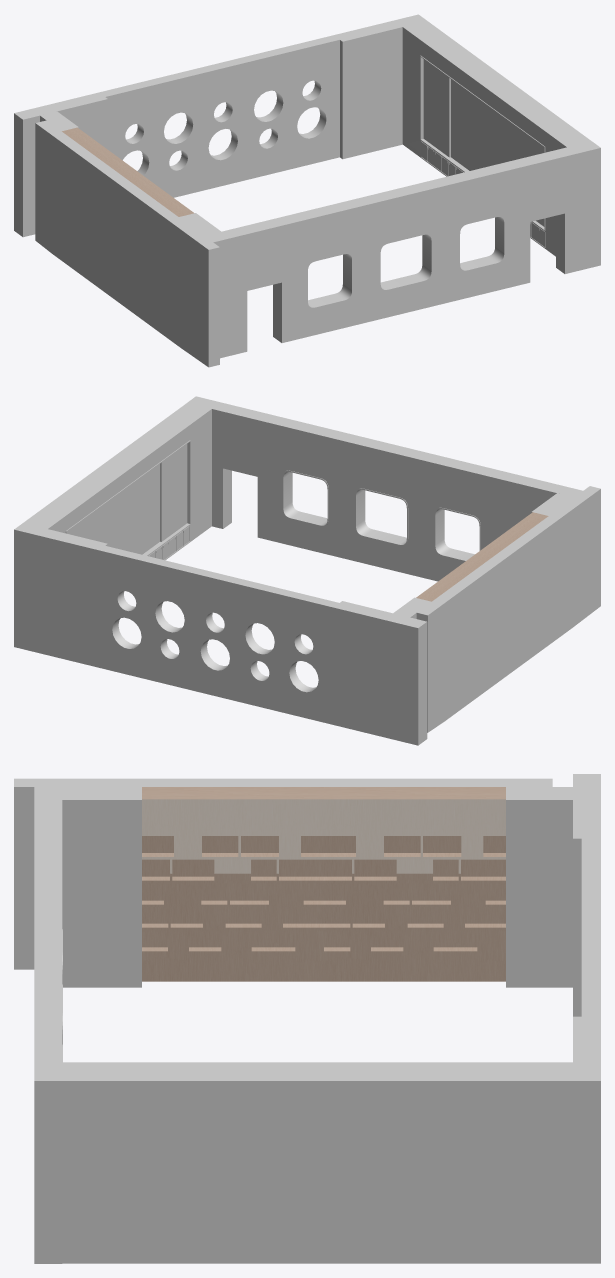
The picture shows the model from 3 angles, top to bottom: view 1: azimuth 30°, elevation 25°; view 2: azimuth 150°, elevation 25°; view 3: azimuth 270°, elevation 25°; orthographic projection. The views are drawn at different scales.
Visible parts, largest first — view 1: Box173, Box152, Box011, Box151, Box158, Box174, screen, window, Object005, Box015, Box175, Box169; view 2: Box173, Box152, Box011, Box174, Box158, Box151, screen, window, Object005, Box175, Box015, Box169; view 3: Box151, Box015, Box175, Box016, Box173, Box168, Box011, Box158, Box152, Box174.
Boxes of the visible parts, bbox=[...] form: Box173: bbox=[204, 141, 600, 358]; Box152: bbox=[99, 35, 339, 197]; Box011: bbox=[35, 120, 219, 367]; Box151: bbox=[402, 21, 591, 256]; Box158: bbox=[334, 14, 426, 159]; Box174: bbox=[14, 92, 107, 237]; screen: bbox=[451, 79, 521, 170]; window: bbox=[307, 215, 505, 308]; Object005: bbox=[423, 59, 544, 226]; Box015: bbox=[120, 170, 194, 216]; Box175: bbox=[62, 127, 135, 174]; Box169: bbox=[420, 55, 545, 230]; Box173: bbox=[187, 396, 582, 581]; Box152: bbox=[99, 545, 338, 724]; Box011: bbox=[416, 486, 600, 732]; Box174: bbox=[333, 601, 427, 745]; Box158: bbox=[14, 523, 107, 667]; Box151: bbox=[23, 403, 211, 560]; screen: bbox=[89, 464, 159, 554]; window: bbox=[282, 470, 480, 561]; Object005: bbox=[67, 444, 187, 541]; Box175: bbox=[416, 555, 489, 601]; Box015: bbox=[475, 512, 548, 558]; Box169: bbox=[65, 440, 190, 555]; Box151: bbox=[62, 1062, 572, 1263]; Box015: bbox=[142, 787, 323, 981]; Box175: bbox=[324, 787, 505, 981]; Box016: bbox=[62, 787, 141, 987]; Box173: bbox=[34, 787, 62, 1263]; Box168: bbox=[506, 787, 572, 987]; Box011: bbox=[14, 778, 552, 969]; Box158: bbox=[573, 1016, 600, 1263]; Box152: bbox=[581, 838, 600, 1016]; Box174: bbox=[573, 774, 600, 1016].
Bounding box in the file's own units: 1820 × 524 × 1471.
